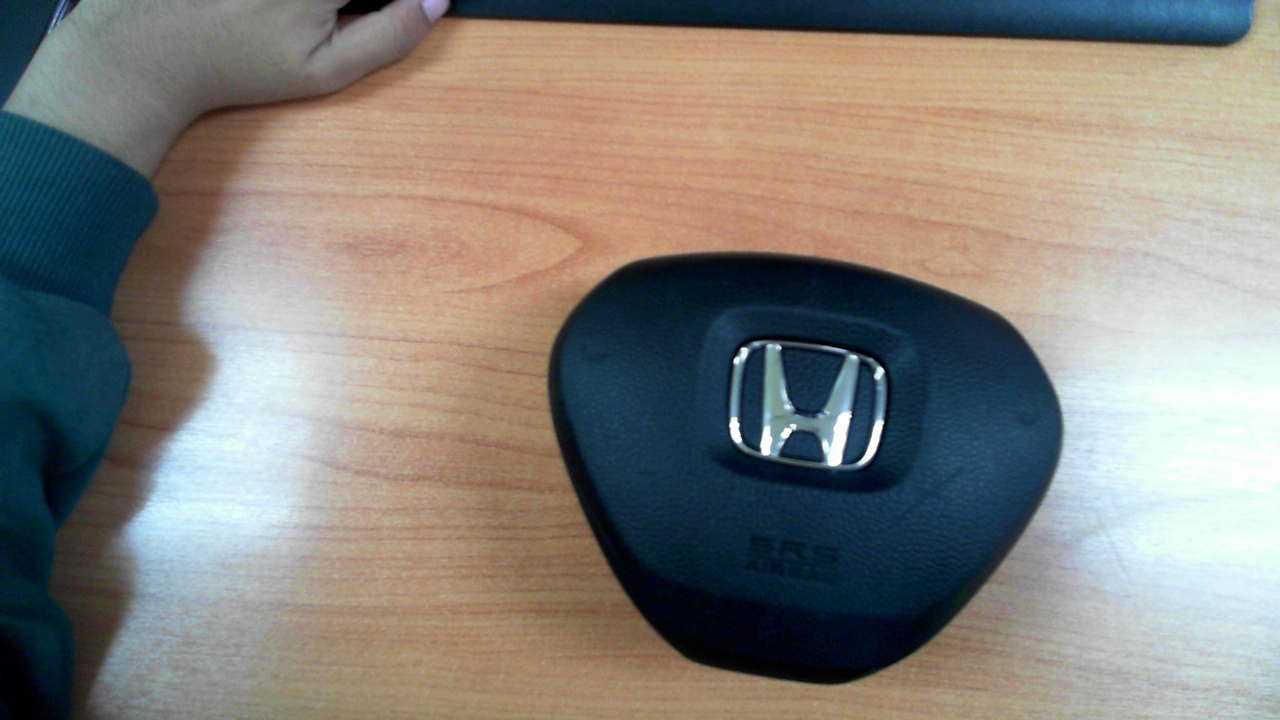Airbag: (546, 251, 1064, 686)
Honda: (729, 340, 887, 467)
